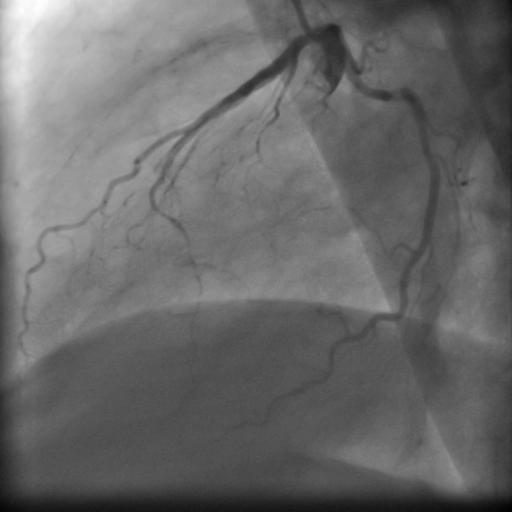Stenosis: (383, 80, 406, 109)
